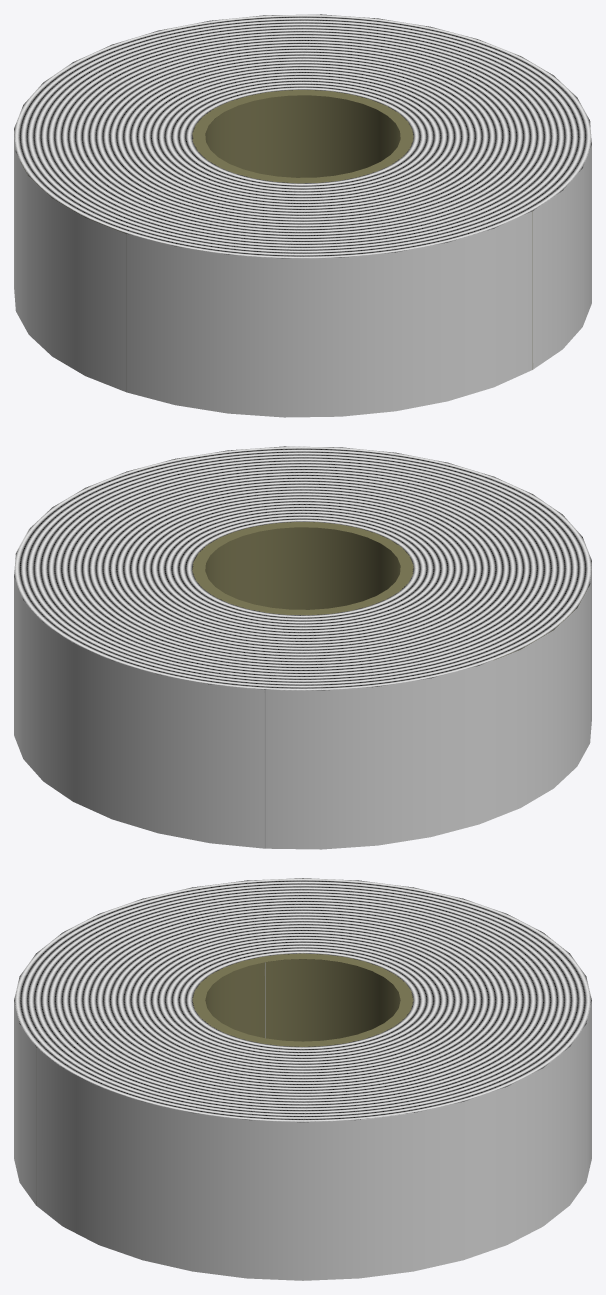
File: tape_roll_medical.glb
3 renders of one model, top to bottom at view 1: azimuth 30°, elevation 25°; view 2: azimuth 150°, elevation 25°; view 3: azimuth 270°, elevation 25°, orthographic.
Parts seen in each view (by area): view 1: Circle_Baked; view 2: Circle_Baked; view 3: Circle_Baked.
Boxes of the visible parts, left/top/right/bottom form: Circle_Baked: left=14, top=14, right=591, bottom=417; Circle_Baked: left=14, top=446, right=591, bottom=849; Circle_Baked: left=14, top=878, right=591, bottom=1280.
Bounding box in the file's own units: 0.1502 × 0.0454 × 0.1502.
Materials: 1 (1 with a texture image).
